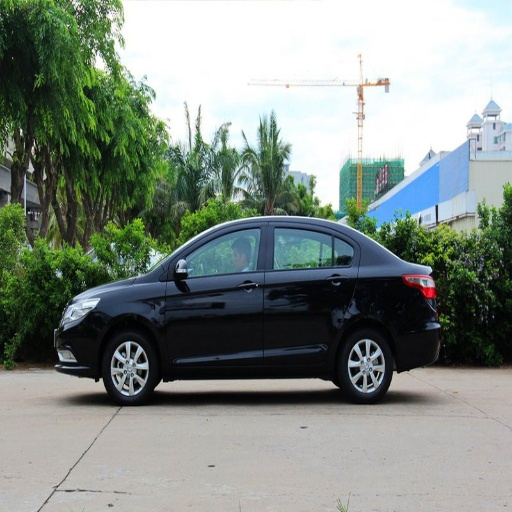back_left_door: (264, 219, 357, 362)
front_left_door: (165, 220, 266, 363)
